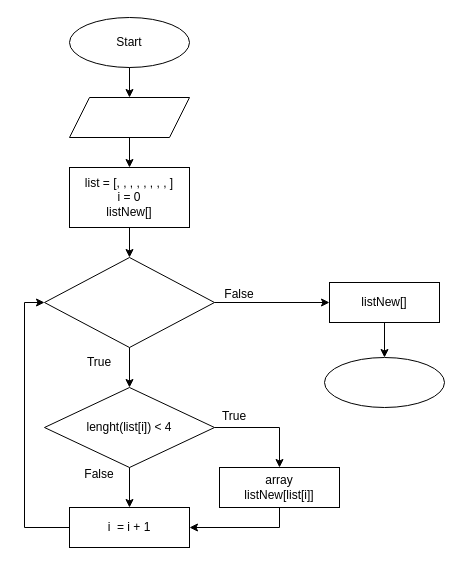
Image size: 462x565. Some labels were removed from this diagram. The centre of each missing label's shape, as x and y in pixels:
"Finish" goes at point 384,382.
"input list[]" goes at point 129,117.
"while i < lenght(list[])" goes at point 129,302.
